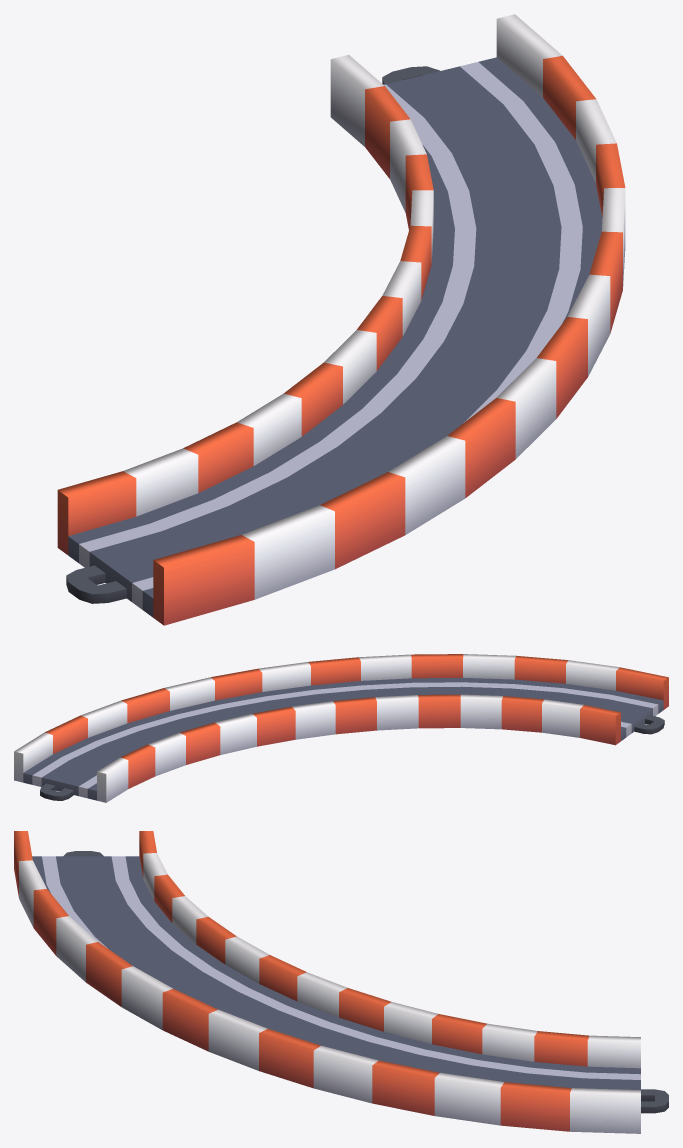
File: track-road-narrow-corner-large.glb
The picture shows the model from 3 angles, top to bottom: view 1: azimuth 30°, elevation 25°; view 2: azimuth 150°, elevation 25°; view 3: azimuth 270°, elevation 25°; orthographic projection. The views are drawn at different scales.
Visible parts, largest first — view 1: track-road-narrow-corner-large; view 2: track-road-narrow-corner-large; view 3: track-road-narrow-corner-large.
Part boxes in pixels (box(x1,y1,x2,y2)): track-road-narrow-corner-large: box(57, 14, 625, 625); track-road-narrow-corner-large: box(14, 654, 668, 802); track-road-narrow-corner-large: box(14, 831, 668, 1133).
Bounding box in the file's own units: 4.7 × 0.3001 × 4.7.
1 material, 1 textured.
